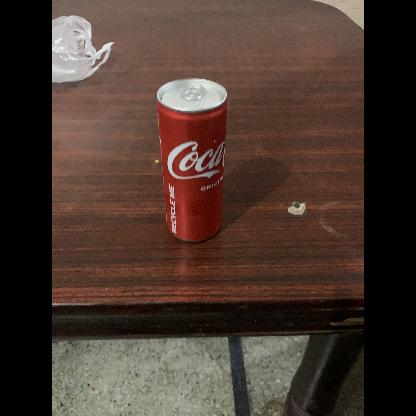Tin_Can: (153, 73, 231, 250)
